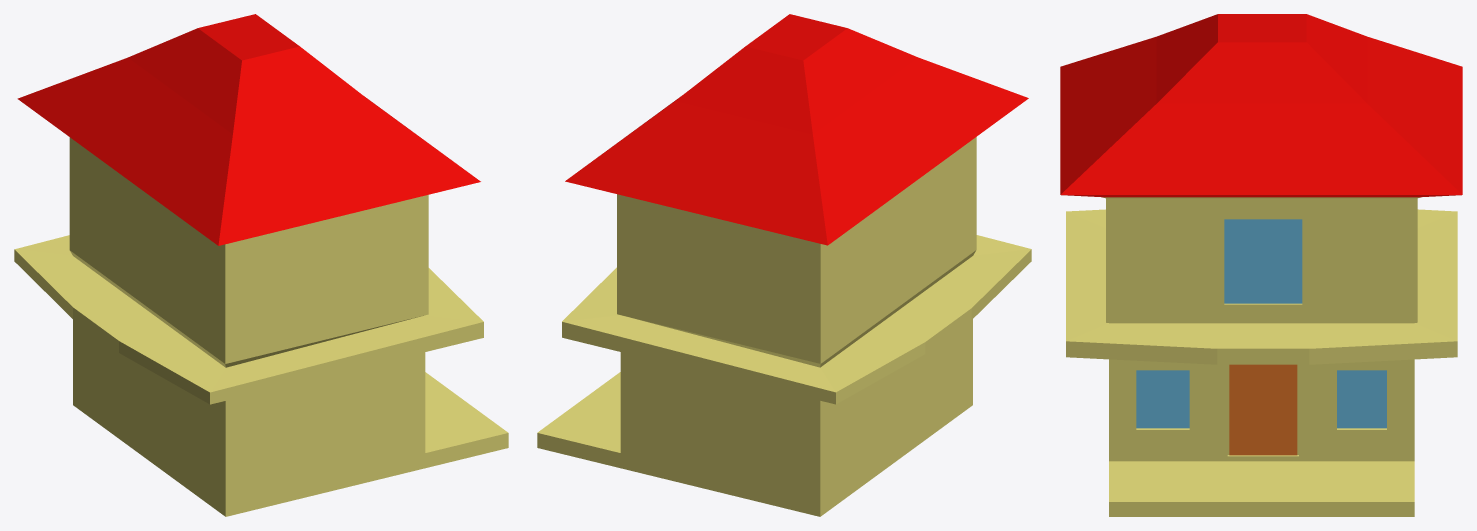
The model's file is Building.fbx.
3 views of the same model, side by side, from view 1: azimuth 30°, elevation 25°; view 2: azimuth 150°, elevation 25°; view 3: azimuth 270°, elevation 25° (orthographic).
Visible parts, largest first — view 1: Cube; view 2: Cube; view 3: Cube.
Part boxes in pixels (<box>): Cube: <box>14,14,508,516</box>; Cube: <box>537,14,1031,516</box>; Cube: <box>1060,14,1462,516</box>.
Size of the model in its own units: 715 by 814 by 743.
